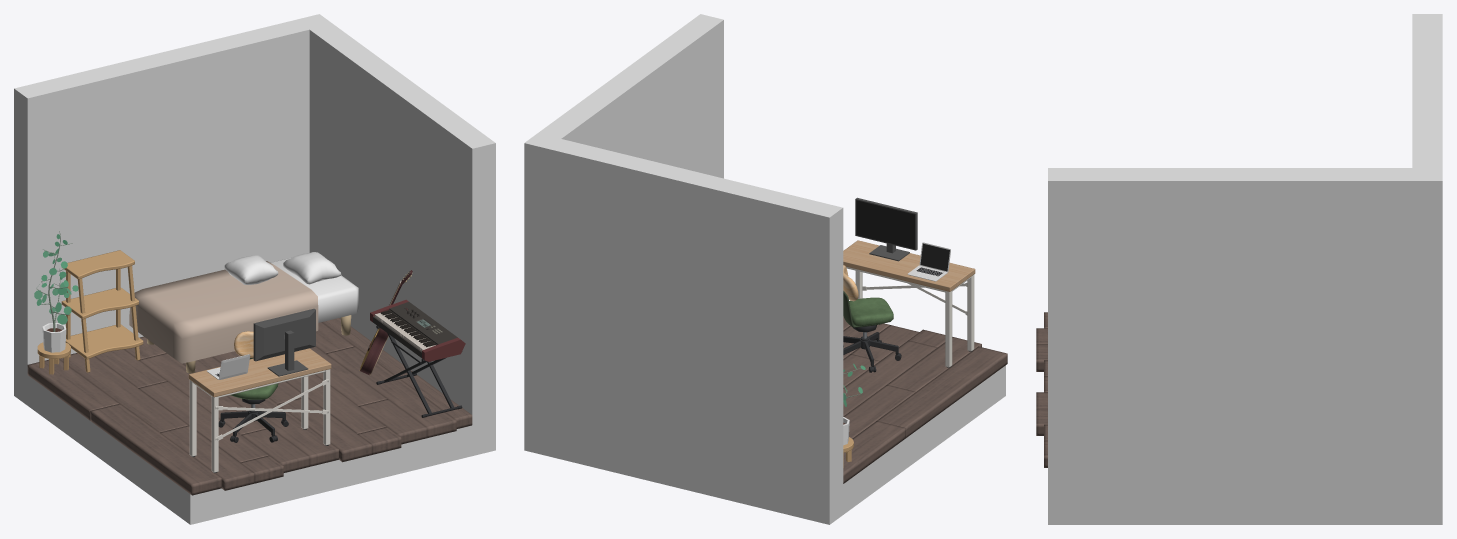
The model's file is portfolio_room_1_1.glb.
3 renders of one model, left to right at view 1: azimuth 30°, elevation 25°; view 2: azimuth 150°, elevation 25°; view 3: azimuth 270°, elevation 25°, orthographic. The views are drawn at different scales.
Parts seen in each view (by area): view 1: Wall, WoodFloor.001, ベッド掛け布団, Desk, Shelf, Synthesizer.001, モニター27インチ, ベッド, Chair, Plant, ベッド枕, KeyboardStand (+5 smaller); view 2: Wall, WoodFloor.001, Desk, モニター27インチ, Chair, PCトップ; view 3: Wall, WoodFloor.001.
Boxes of the visible parts, x1=… form: Wall: x1=14, y1=14, x2=495, y2=524; WoodFloor.001: x1=27, y1=318, x2=472, y2=495; ベッド掛け布団: x1=129, y1=261, x2=318, y2=363; Desk: x1=188, y1=348, x2=331, y2=472; Shelf: x1=61, y1=250, x2=143, y2=372; Synthesizer.001: x1=370, y1=299, x2=465, y2=361; モニター27インチ: x1=253, y1=308, x2=315, y2=376; ベッド: x1=147, y1=257, x2=358, y2=373; Chair: x1=218, y1=331, x2=288, y2=442; Plant: x1=34, y1=231, x2=78, y2=331; ベッド枕: x1=283, y1=252, x2=341, y2=284; KeyboardStand: x1=376, y1=326, x2=462, y2=417; Wall: x1=524, y1=14, x2=1005, y2=524; WoodFloor.001: x1=843, y1=316, x2=1007, y2=483; Desk: x1=843, y1=240, x2=975, y2=367; モニター27インチ: x1=855, y1=197, x2=917, y2=261; Chair: x1=843, y1=265, x2=901, y2=372; PCトップ: x1=919, y1=242, x2=950, y2=272; Wall: x1=1048, y1=14, x2=1442, y2=524; WoodFloor.001: x1=1036, y1=312, x2=1047, y2=467.
Bounding box in the file's own units: 3.17 × 3 × 3.21.
Materials: 20 (7 with a texture image).
